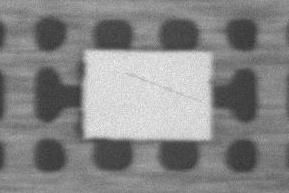DIE_CRACK: (189, 49, 289, 68)
